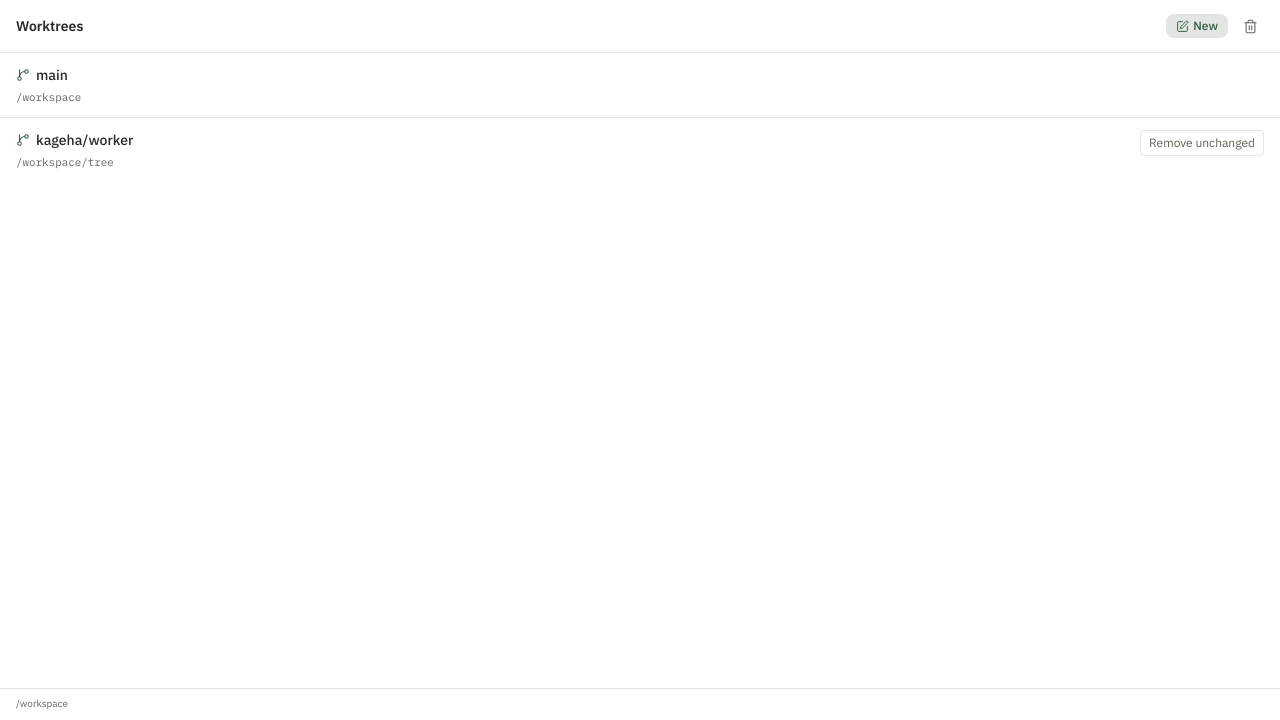
Scenario: only offers cleanup for managed checkouts and preserves request identity on interruption
Later steps or results of the test are not shown.
What coordinates should you click on to do the following:
click the button "Remove unchanged"
I would click on:
 (1202, 143)
Its box is [1140,130,1264,156].
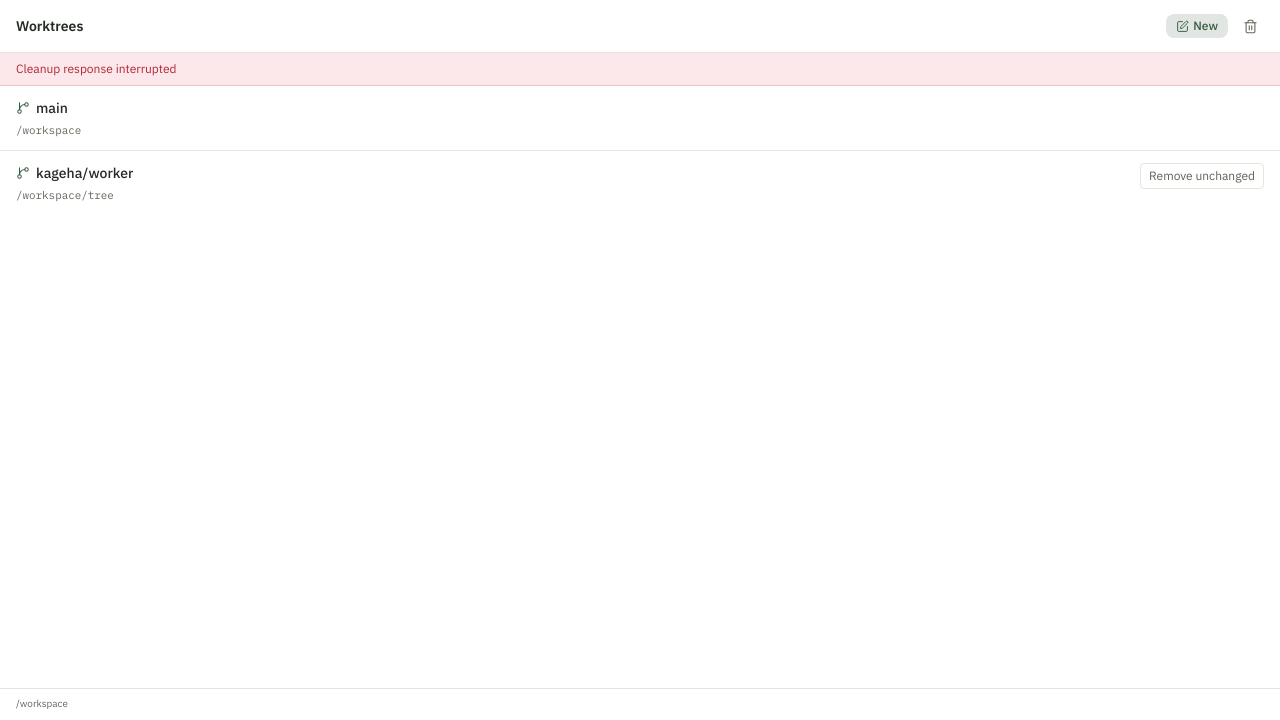
expect the button "Remove unchanged" is enabled: met, box [1140,163,1264,189]
expect the text "Cleanup response interrupted" is shown: met, box [0,53,1279,86]
